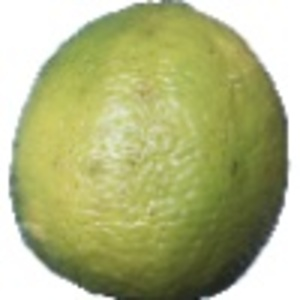limão: (1, 1, 289, 300)
